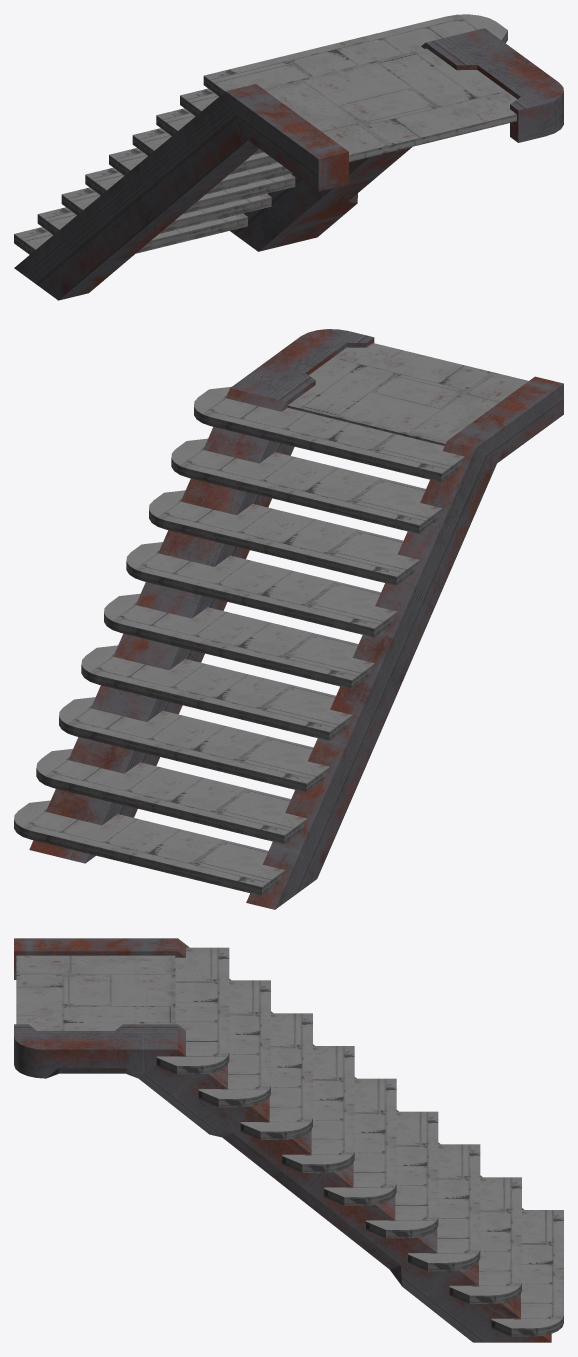
Rendered from ARC0910227.fbx.
3 views of the same model, one above another, from view 1: azimuth 30°, elevation 25°; view 2: azimuth 150°, elevation 25°; view 3: azimuth 270°, elevation 25° (orthographic). The views are drawn at different scales.
Visible parts, largest first — view 1: smARC0910227; view 2: smARC0910227; view 3: smARC0910227.
Boxes of the visible parts, x1=… form: smARC0910227: x1=14, y1=14, x2=563, y2=300; smARC0910227: x1=14, y1=329, x2=563, y2=909; smARC0910227: x1=14, y1=938, x2=563, y2=1342.
Size of the model in its own units: 274 by 309 by 525.
1 material, 1 textured.
